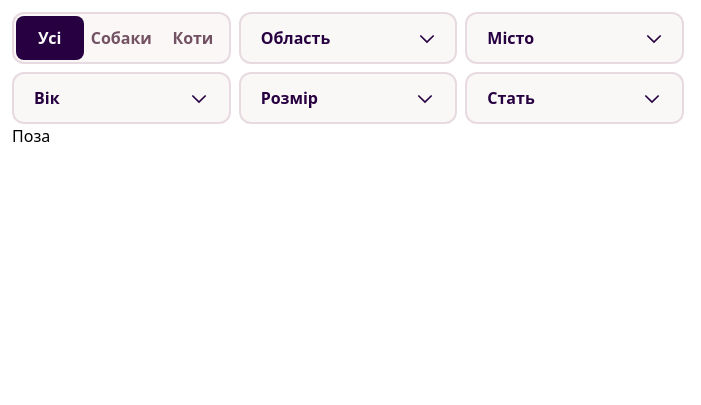
Scenario: GalleryFilterDropdowns › the oblast field › lists every oblast with counts in two groups, a zero-count one disabled in place
Click the dropdown labelled "Область" at (328, 38), box [261,14,395,62]
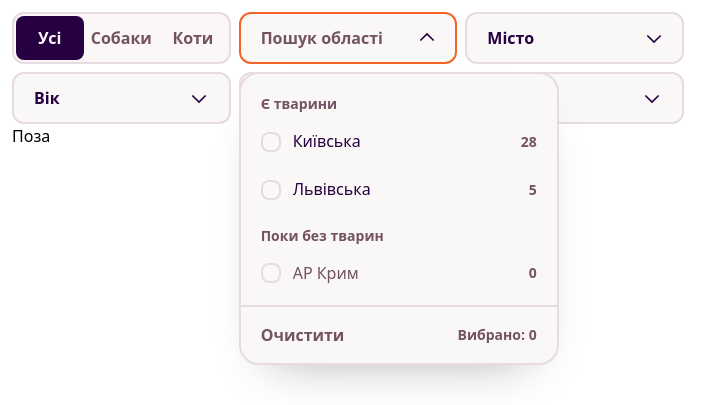
Now the element "Є тварини" is shown, box [249,82,549,214]
Now the element "Поки без тварин" is shown, box [249,214,549,297]
